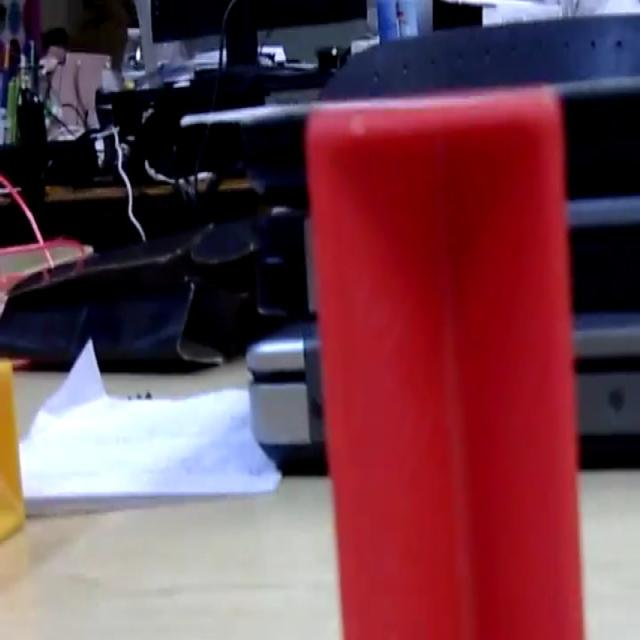red_block: (303, 83, 585, 636)
